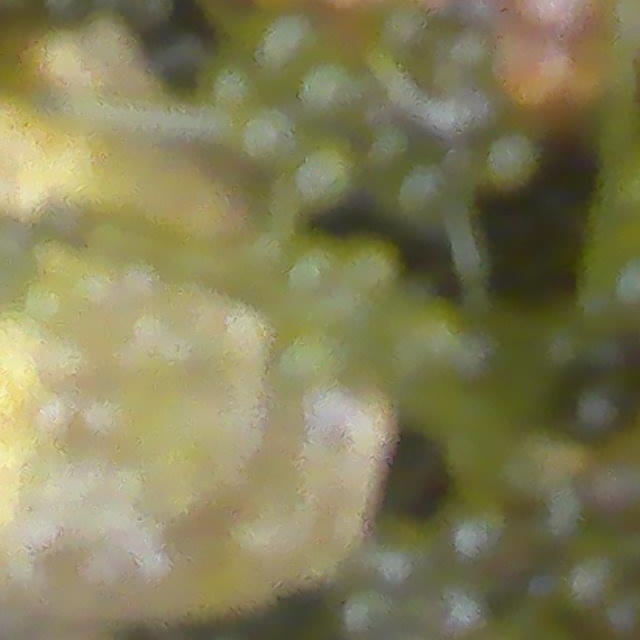SeaGrape: (231, 99, 306, 176)
